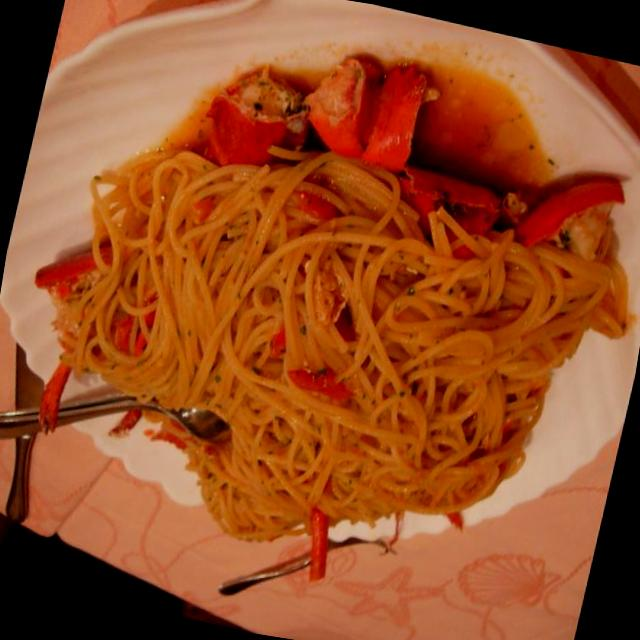Pasta: (25, 44, 617, 587)
